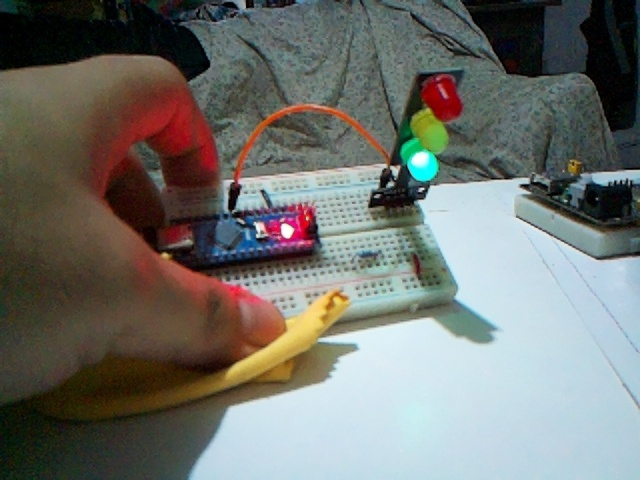traffic_light_green: (397, 69, 465, 182)
